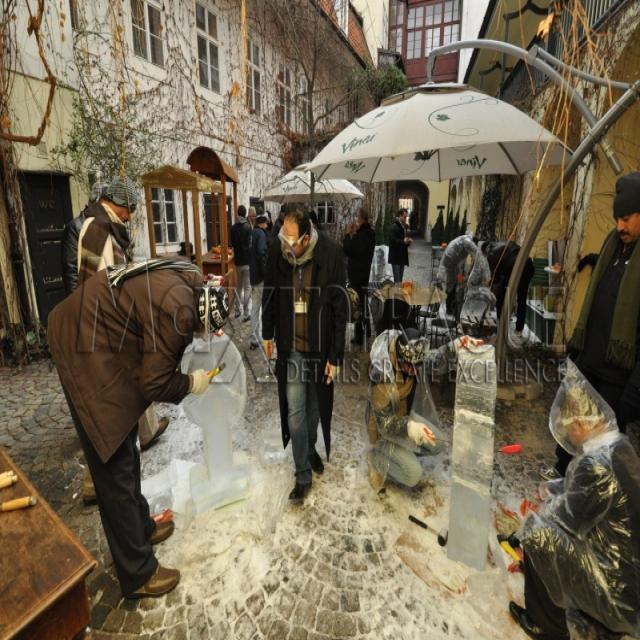body: (44, 256, 231, 602), (506, 353, 639, 639), (537, 170, 639, 481), (258, 196, 349, 502), (362, 324, 447, 502), (75, 170, 139, 280), (479, 237, 536, 340), (343, 202, 378, 348), (63, 177, 105, 288), (247, 206, 270, 352), (441, 232, 480, 316), (230, 202, 254, 323), (387, 206, 414, 283), (256, 206, 286, 238), (245, 203, 258, 250), (178, 238, 197, 260), (306, 201, 319, 230)
